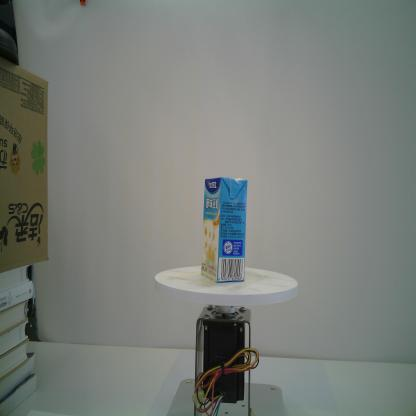Milk: (199, 175, 248, 281)
